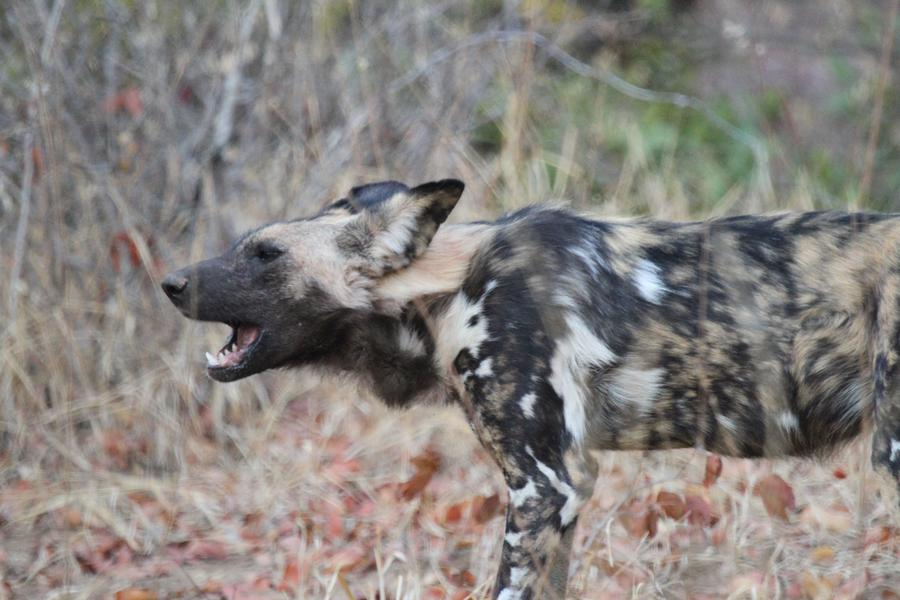wilddog: (156, 161, 872, 491)
